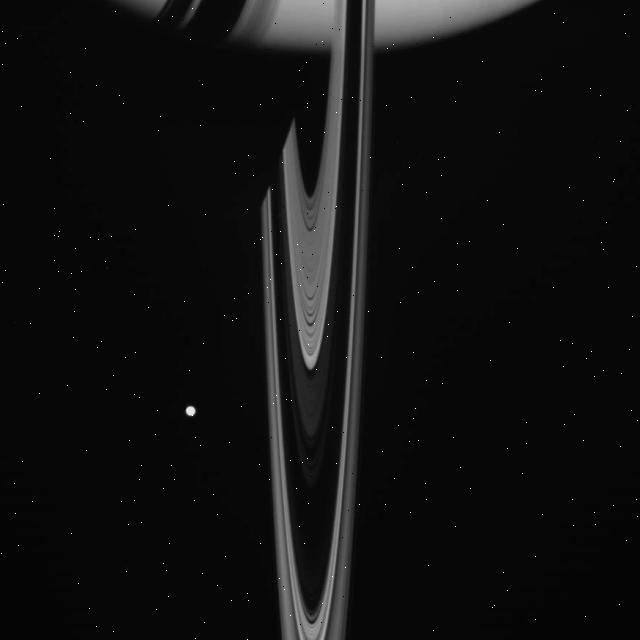Saturn: (97, 0, 560, 640)
